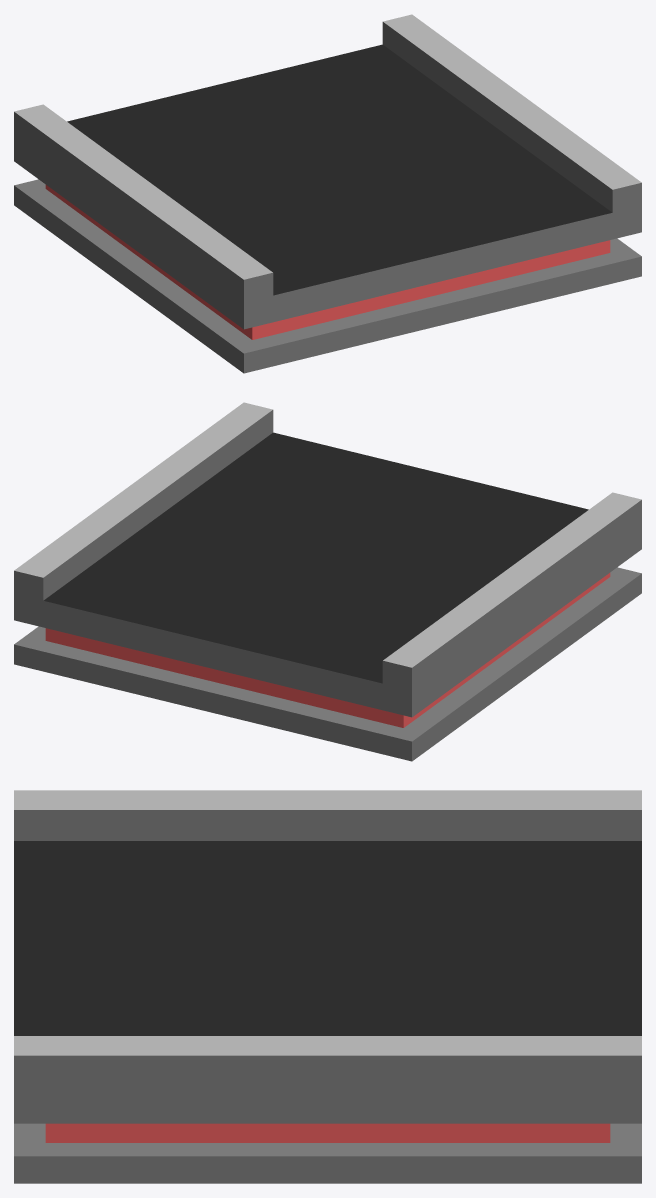
The model's file is ModGasRoofMid.fbx.
3 renders of one model, top to bottom at view 1: azimuth 30°, elevation 25°; view 2: azimuth 150°, elevation 25°; view 3: azimuth 270°, elevation 25°, orthographic. The views are drawn at different scales.
Parts seen in each view (by area): view 1: ModGasRoofMid; view 2: ModGasRoofMid; view 3: ModGasRoofMid.
Part boxes in pixels (x1=…): ModGasRoofMid: x1=14, y1=14, x2=641, y2=373; ModGasRoofMid: x1=14, y1=402, x2=641, y2=761; ModGasRoofMid: x1=14, y1=790, x2=641, y2=1183.
Bounding box in the file's own units: 400 × 90 × 400.
